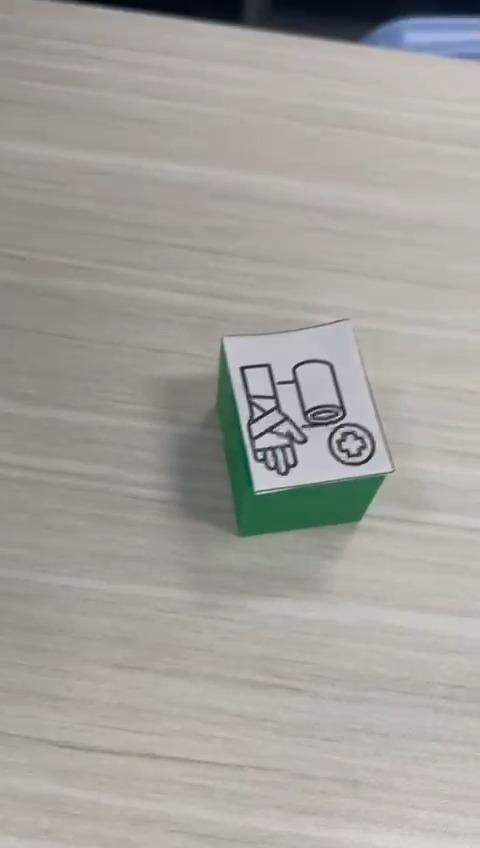Bandages: (217, 318, 395, 536)
